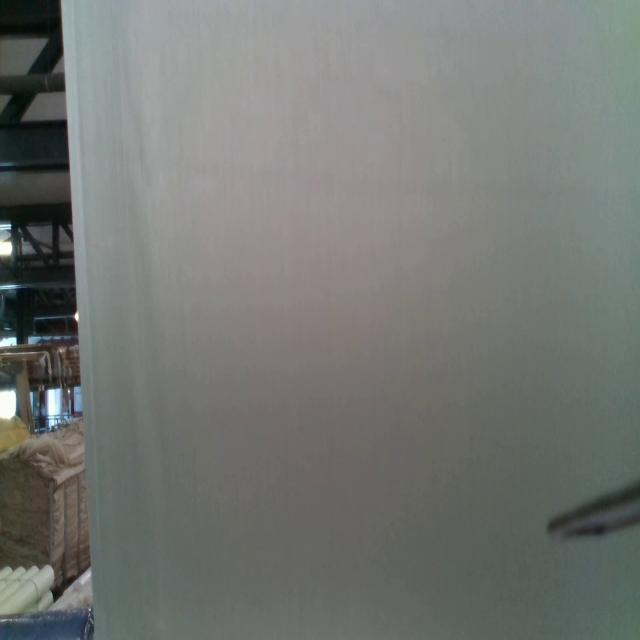color bleeding: (139, 152, 640, 218)
